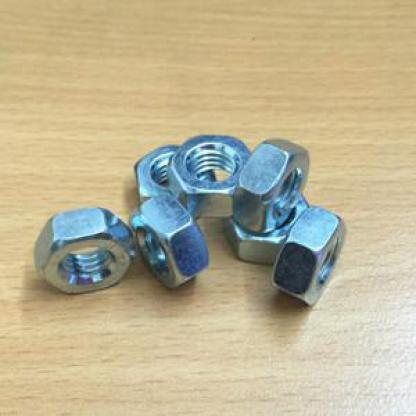FOD: (30, 204, 138, 294), (269, 199, 349, 306), (132, 193, 209, 298), (230, 134, 312, 232), (171, 128, 257, 217), (220, 188, 315, 263), (131, 134, 207, 211)
